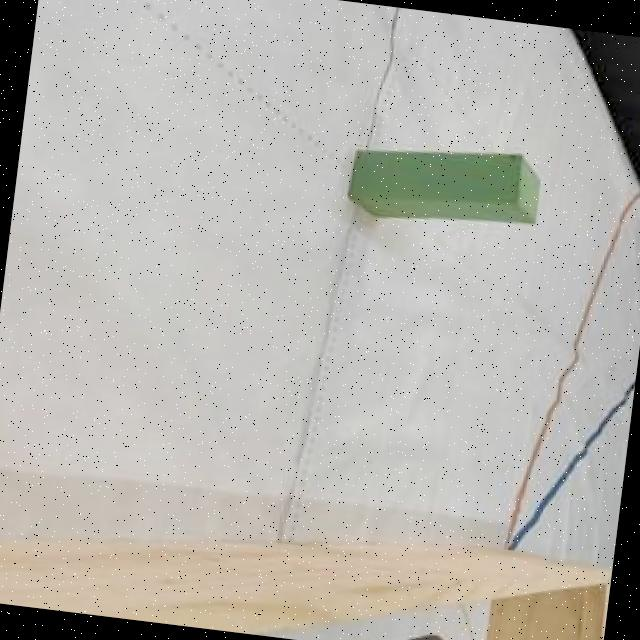greenbox: (348, 137, 542, 230)
